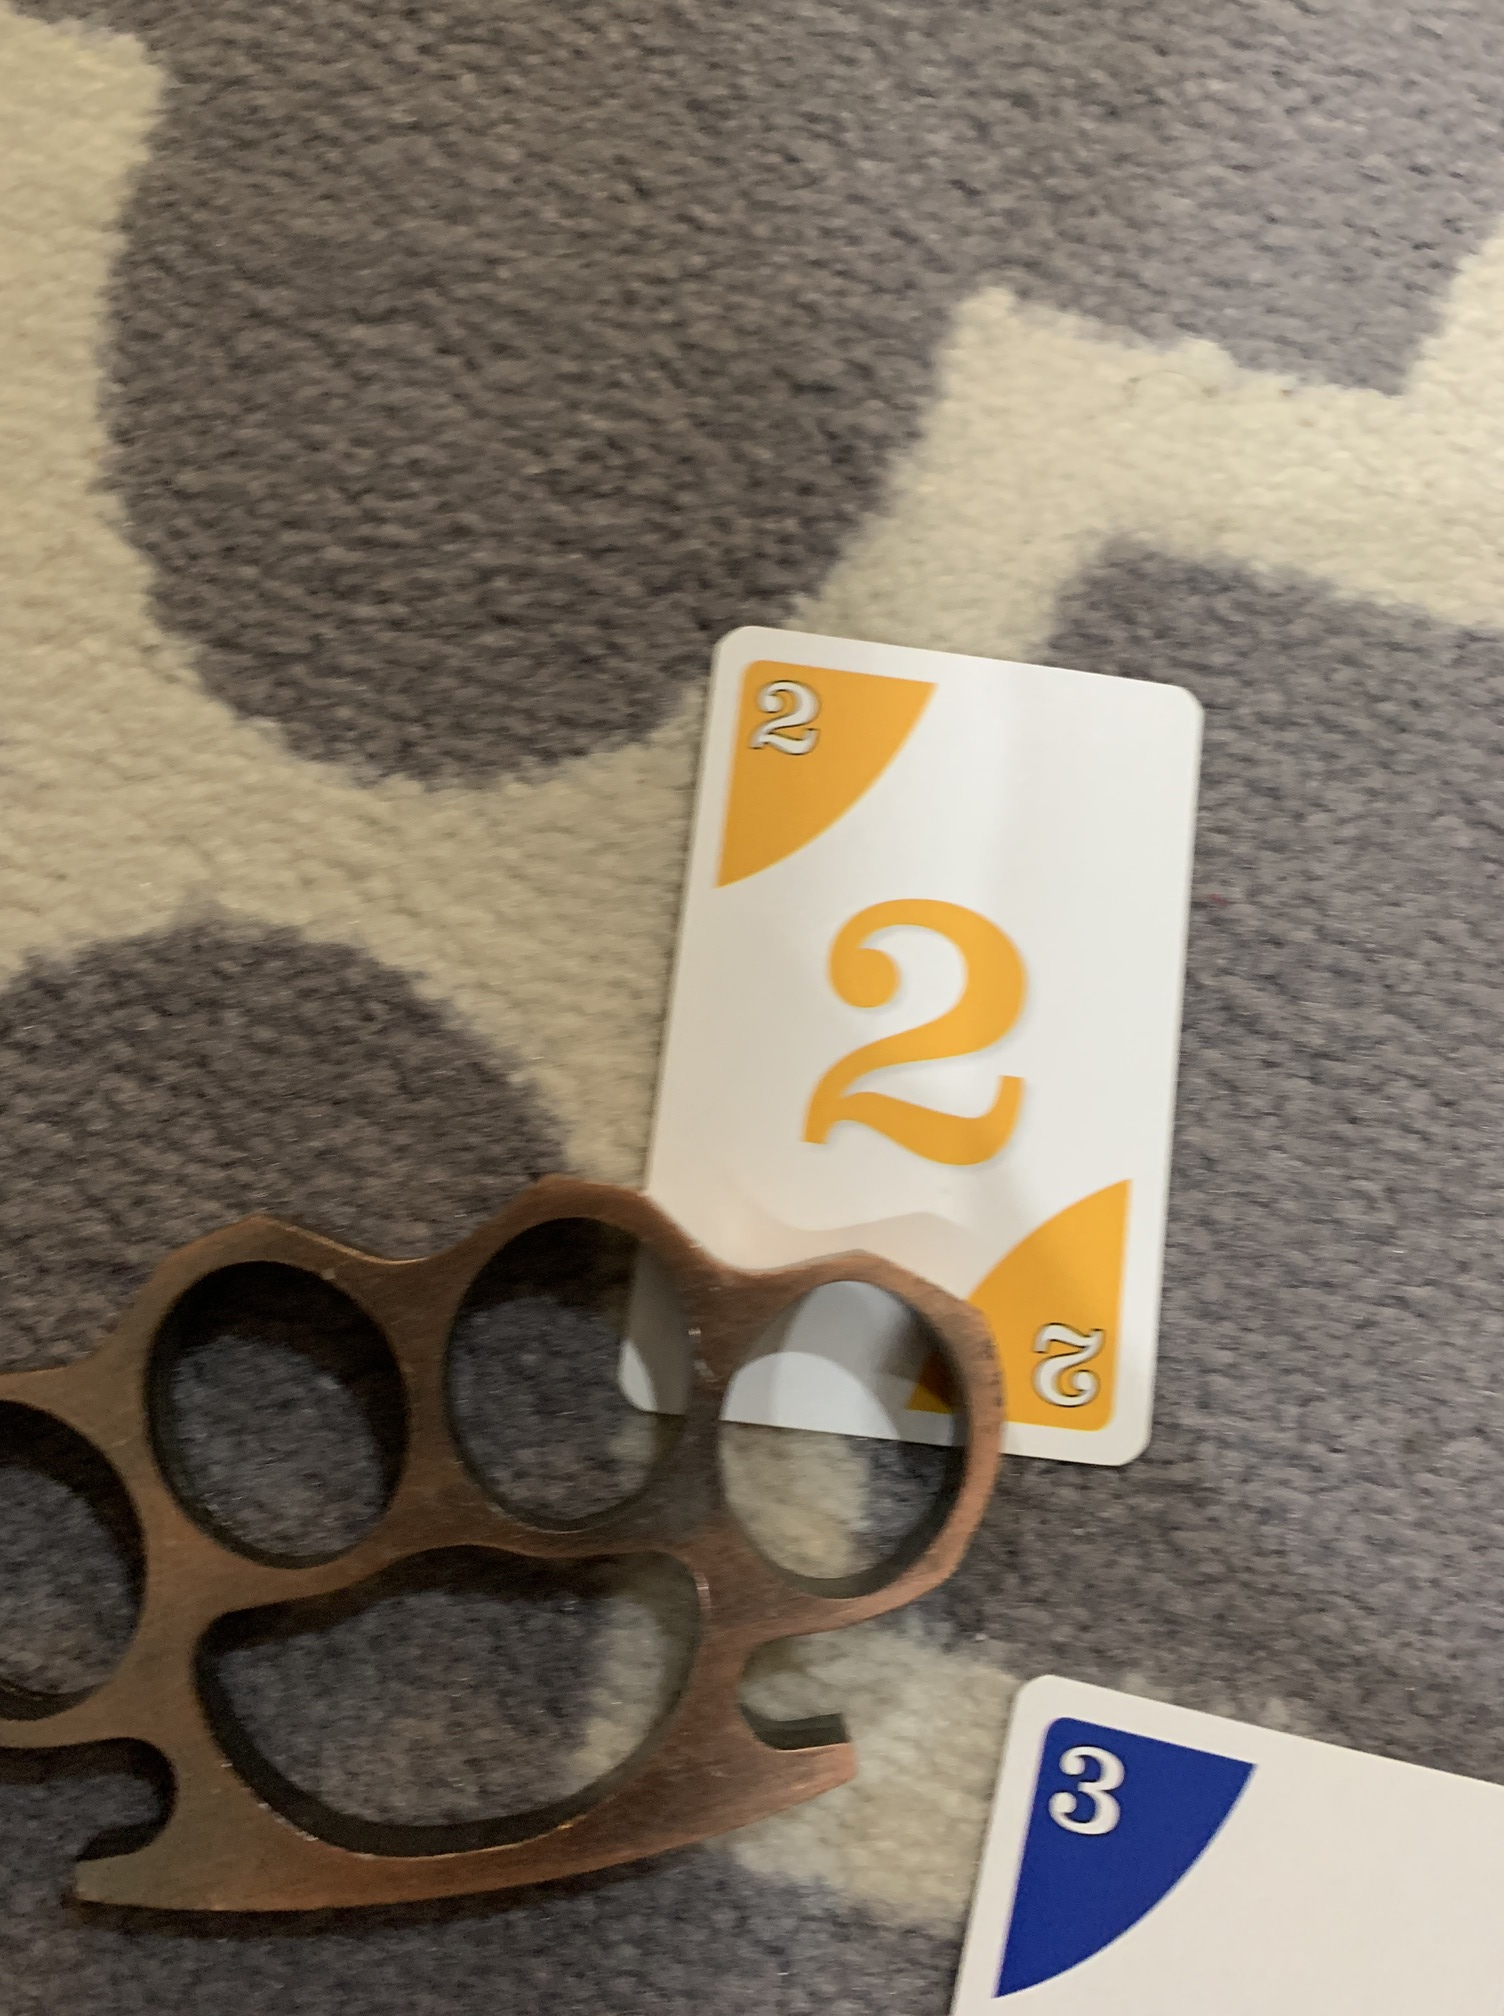two: (596, 596, 1231, 1495)
